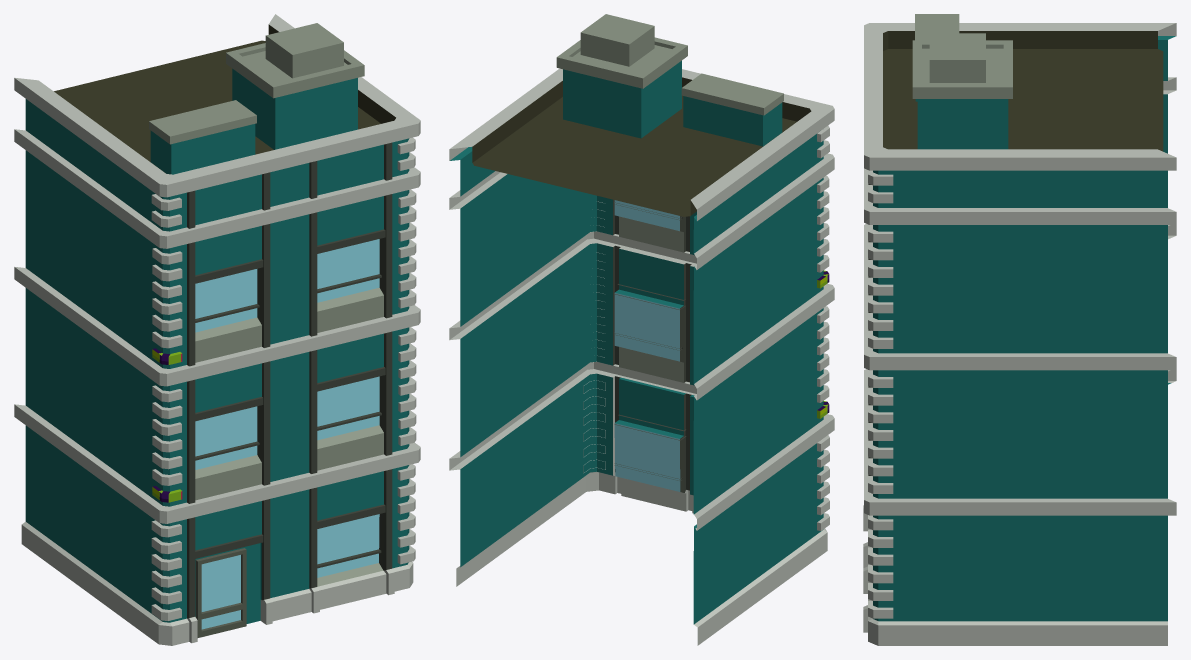
Rendered from House1.2.fbx.
The picture shows the model from 3 angles, left to right: view 1: azimuth 30°, elevation 25°; view 2: azimuth 150°, elevation 25°; view 3: azimuth 270°, elevation 25°; orthographic projection. The views are drawn at different scales.
Visible parts, largest first — view 1: House1.2; view 2: House1.2; view 3: House1.2.
Boxes of the visible parts, x1,y1,x2,y2 form: House1.2: [14, 14, 420, 645]; House1.2: [449, 14, 834, 645]; House1.2: [863, 14, 1176, 645].
Bounding box in the file's own units: 795 × 1550 × 782.
Materials: 1 (1 with a texture image).
